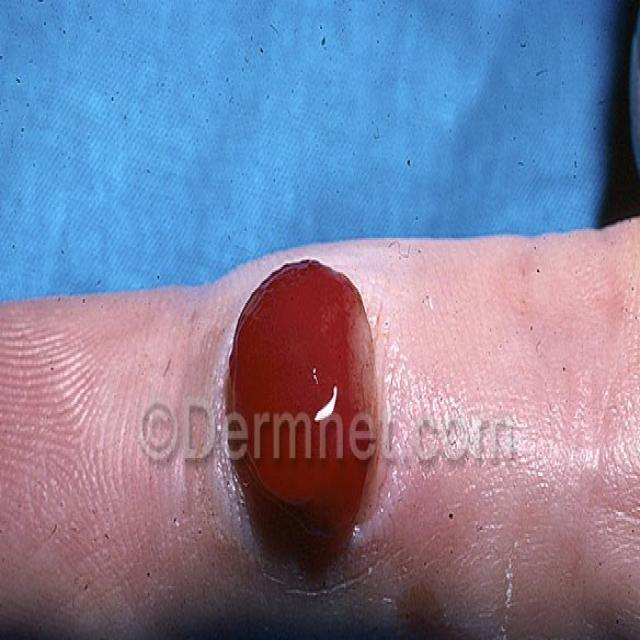Vascular Tumors: (219, 243, 390, 568)
